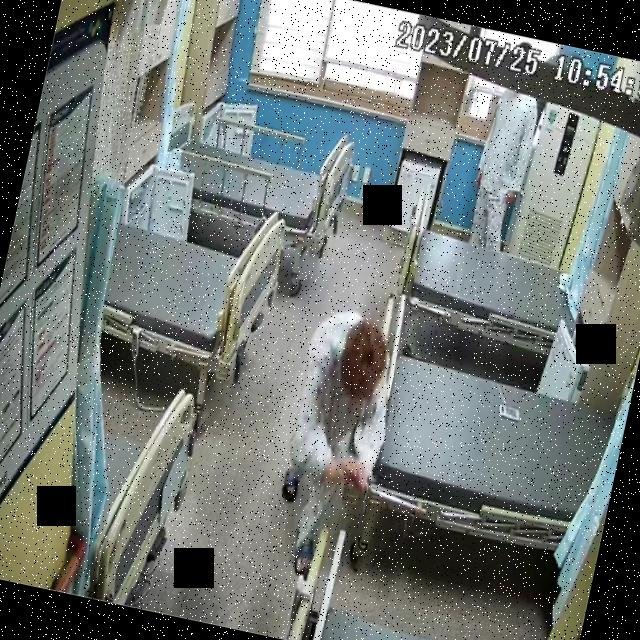bed: (358, 343, 622, 562), (90, 180, 295, 388), (153, 99, 359, 256), (390, 200, 592, 356)
danger: (260, 299, 408, 585)
patient: (260, 298, 406, 585)
